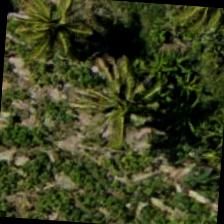Kelapa_Sawit: (88, 54, 184, 150), (18, 0, 114, 81)
